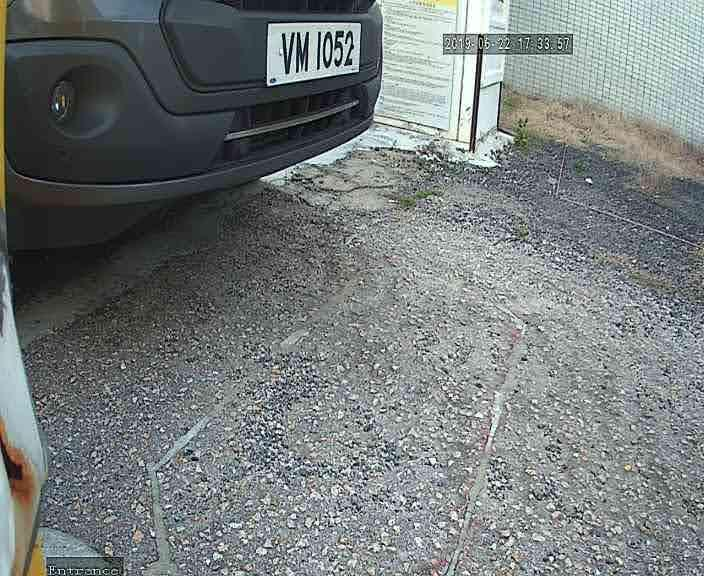privatecar: (2, 3, 429, 274)
